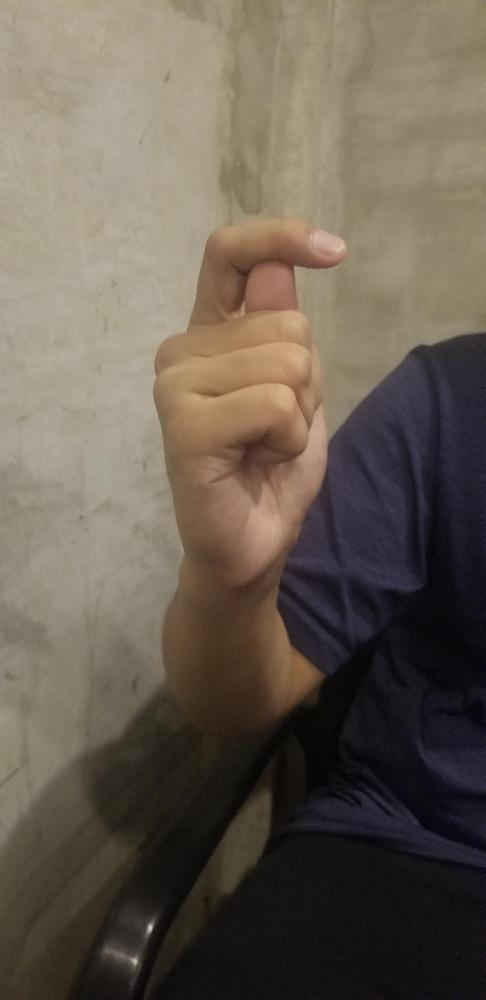t: (150, 217, 346, 563)
